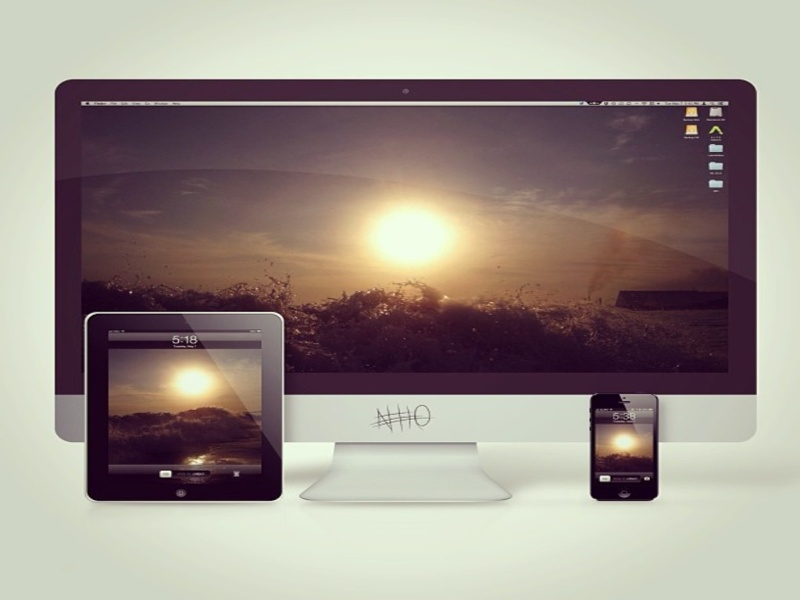cellphone: (81, 307, 287, 507), (586, 389, 662, 503)
